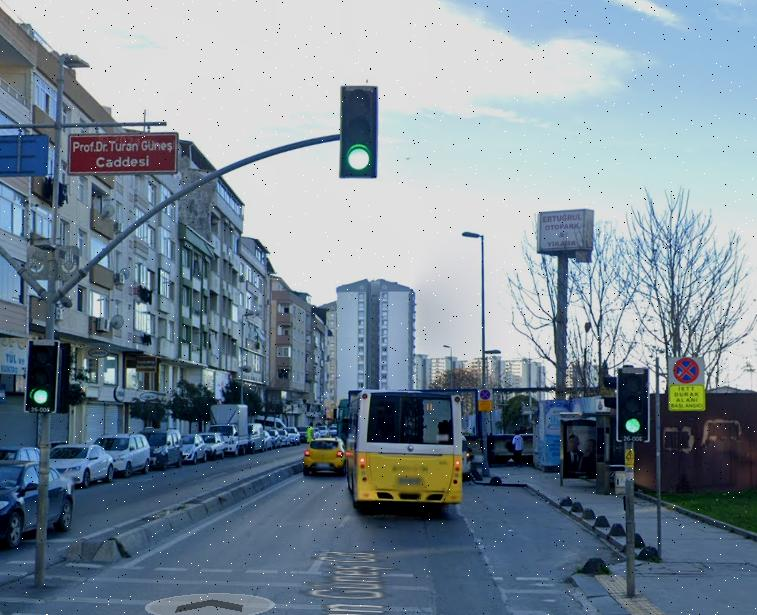greenlight: (334, 78, 386, 184), (614, 362, 657, 449), (23, 335, 69, 413)
